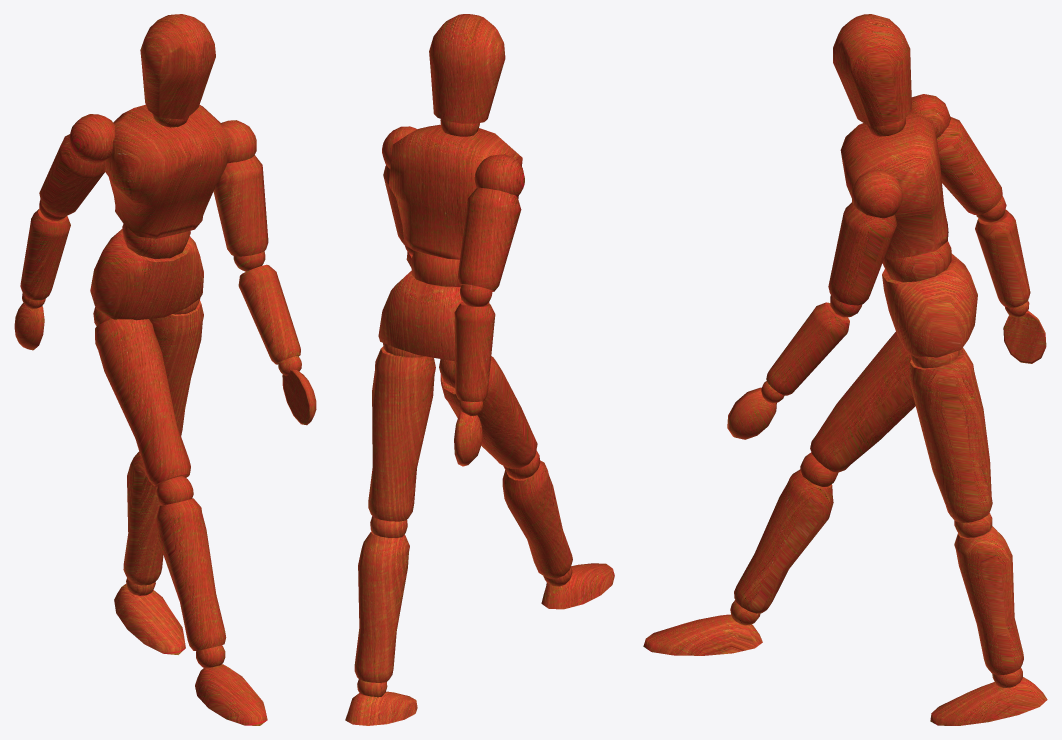
Rendered from dummy_obj_walk_pose_3.obj.
The picture shows the model from 3 angles, left to right: view 1: azimuth 30°, elevation 25°; view 2: azimuth 150°, elevation 25°; view 3: azimuth 270°, elevation 25°; orthographic projection. The views are drawn at different scales.
Parts seen in each view (by area): view 1: dummy_hips3 dummy_belly dummy_torso 메시, dummy_hips3 dummy_rpelvis dummy_rupleg 메시, dummy_hips3 메시, dummy_hips3 dummy_rpelvis dummy_rupleg dummy_rknee dummy_rleg 메시, dummy_hips3 dummy_belly dummy_torso dummy_neck dummy_headq 메시, dummy_hips3 dummy_belly dummy_torso dummy_lshoulder dummy_larm d, dummy_hips3 dummy_belly dummy_torso dummy_rshoulder dummy_rarm d, dummy_hips3 dummy_belly dummy_torso dummy_lshoulder dummy_larm 메, dummy_hips3 dummy_lpelvis dummy_lupleg dummy_lknee dummy_lleg 메시, dummy_hips3 dummy_rpelvis dummy_rupleg dummy_rknee dummy_rleg du, dummy_hips3 dummy_lpelvis dummy_lupleg 메시, dummy_hips3 dummy_lpelvis dummy_lupleg dummy_lknee dummy_lleg du (+5 smaller); view 2: dummy_hips3 dummy_belly dummy_torso 메시, dummy_hips3 dummy_lpelvis dummy_lupleg 메시, dummy_hips3 dummy_belly dummy_torso dummy_neck dummy_headq 메시, dummy_hips3 dummy_lpelvis dummy_lupleg dummy_lknee dummy_lleg 메시, dummy_hips3 dummy_belly dummy_torso dummy_rshoulder dummy_rarm d, dummy_hips3 메시, dummy_hips3 dummy_belly dummy_torso dummy_rshoulder dummy_rarm 메, dummy_hips3 dummy_rpelvis dummy_rupleg dummy_rknee dummy_rleg 메시, dummy_hips3 dummy_rpelvis dummy_rupleg 메시, dummy_hips3 dummy_rpelvis dummy_rupleg dummy_rknee dummy_rleg du, dummy_hips3 dummy_lpelvis dummy_lupleg dummy_lknee dummy_lleg du, dummy_hips3 dummy_belly dummy_torso dummy_rshoulder 메시 (+5 smaller); view 3: dummy_hips3 dummy_lpelvis dummy_lupleg 메시, dummy_hips3 dummy_belly dummy_torso 메시, dummy_hips3 dummy_rpelvis dummy_rupleg 메시, dummy_hips3 dummy_belly dummy_torso dummy_neck dummy_headq 메시, dummy_hips3 메시, dummy_hips3 dummy_rpelvis dummy_rupleg dummy_rknee dummy_rleg 메시, dummy_hips3 dummy_lpelvis dummy_lupleg dummy_lknee dummy_lleg 메시, dummy_hips3 dummy_belly dummy_torso dummy_lshoulder dummy_larm d, dummy_hips3 dummy_belly dummy_torso dummy_rshoulder dummy_rarm d, dummy_hips3 dummy_belly dummy_torso dummy_lshoulder dummy_larm 메, dummy_hips3 dummy_rpelvis dummy_rupleg dummy_rknee dummy_rleg du, dummy_hips3 dummy_belly dummy_torso dummy_rshoulder dummy_rarm 메 (+5 smaller).
Boxes of the visible parts, bbox=[...] form: dummy_hips3 dummy_belly dummy_torso 메시: bbox=[105, 104, 232, 238]; dummy_hips3 dummy_rpelvis dummy_rupleg 메시: bbox=[95, 319, 190, 486]; dummy_hips3 메시: bbox=[90, 229, 203, 320]; dummy_hips3 dummy_rpelvis dummy_rupleg dummy_rknee dummy_rleg 메시: bbox=[156, 498, 226, 650]; dummy_hips3 dummy_belly dummy_torso dummy_neck dummy_headq 메시: bbox=[140, 14, 215, 119]; dummy_hips3 dummy_belly dummy_torso dummy_lshoulder dummy_larm d: bbox=[233, 251, 316, 425]; dummy_hips3 dummy_belly dummy_torso dummy_rshoulder dummy_rarm d: bbox=[14, 199, 70, 350]; dummy_hips3 dummy_belly dummy_torso dummy_lshoulder dummy_larm 메: bbox=[213, 155, 268, 256]; dummy_hips3 dummy_lpelvis dummy_lupleg dummy_lknee dummy_lleg 메시: bbox=[123, 451, 163, 585]; dummy_hips3 dummy_rpelvis dummy_rupleg dummy_rknee dummy_rleg du: bbox=[195, 645, 267, 725]; dummy_hips3 dummy_lpelvis dummy_lupleg 메시: bbox=[149, 300, 203, 435]; dummy_hips3 dummy_lpelvis dummy_lupleg dummy_lknee dummy_lleg du: bbox=[114, 578, 185, 654]; dummy_hips3 dummy_belly dummy_torso 메시: bbox=[388, 124, 522, 259]; dummy_hips3 dummy_lpelvis dummy_lupleg 메시: bbox=[368, 346, 435, 521]; dummy_hips3 dummy_belly dummy_torso dummy_neck dummy_headq 메시: bbox=[429, 14, 505, 123]; dummy_hips3 dummy_lpelvis dummy_lupleg dummy_lknee dummy_lleg 메시: bbox=[354, 531, 409, 682]; dummy_hips3 dummy_belly dummy_torso dummy_rshoulder dummy_rarm d: bbox=[454, 284, 495, 466]; dummy_hips3 메시: bbox=[378, 271, 489, 361]; dummy_hips3 dummy_belly dummy_torso dummy_rshoulder dummy_rarm 메: bbox=[457, 187, 521, 291]; dummy_hips3 dummy_rpelvis dummy_rupleg dummy_rknee dummy_rleg 메시: bbox=[502, 460, 572, 578]; dummy_hips3 dummy_rpelvis dummy_rupleg 메시: bbox=[440, 356, 537, 468]; dummy_hips3 dummy_rpelvis dummy_rupleg dummy_rknee dummy_rleg du: bbox=[541, 563, 614, 609]; dummy_hips3 dummy_lpelvis dummy_lupleg dummy_lknee dummy_lleg du: bbox=[345, 679, 417, 725]; dummy_hips3 dummy_belly dummy_torso dummy_rshoulder 메시: bbox=[474, 154, 524, 196]; dummy_hips3 dummy_lpelvis dummy_lupleg 메시: bbox=[909, 348, 992, 522]; dummy_hips3 dummy_belly dummy_torso 메시: bbox=[840, 112, 948, 259]; dummy_hips3 dummy_rpelvis dummy_rupleg 메시: bbox=[810, 332, 915, 472]; dummy_hips3 dummy_belly dummy_torso dummy_neck dummy_headq 메시: bbox=[833, 14, 911, 126]; dummy_hips3 메시: bbox=[882, 253, 977, 358]; dummy_hips3 dummy_rpelvis dummy_rupleg dummy_rknee dummy_rleg 메시: bbox=[734, 469, 833, 613]; dummy_hips3 dummy_lpelvis dummy_lupleg dummy_lknee dummy_lleg 메시: bbox=[954, 526, 1023, 675]; dummy_hips3 dummy_belly dummy_torso dummy_lshoulder dummy_larm d: bbox=[727, 295, 862, 439]; dummy_hips3 dummy_belly dummy_torso dummy_rshoulder dummy_rarm d: bbox=[975, 195, 1046, 363]; dummy_hips3 dummy_belly dummy_torso dummy_lshoulder dummy_larm 메: bbox=[828, 202, 897, 305]; dummy_hips3 dummy_rpelvis dummy_rupleg dummy_rknee dummy_rleg du: bbox=[643, 600, 762, 655]; dummy_hips3 dummy_belly dummy_torso dummy_rshoulder dummy_rarm 메: bbox=[937, 117, 1002, 214].
Size of the model in its own units: 46.68 by 177 by 94.37.
29 materials, 29 textured.
